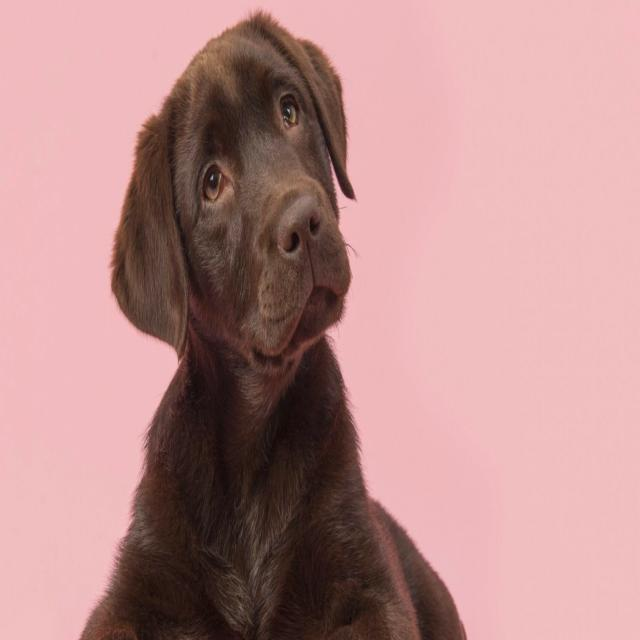dog: (80, 13, 465, 639)
